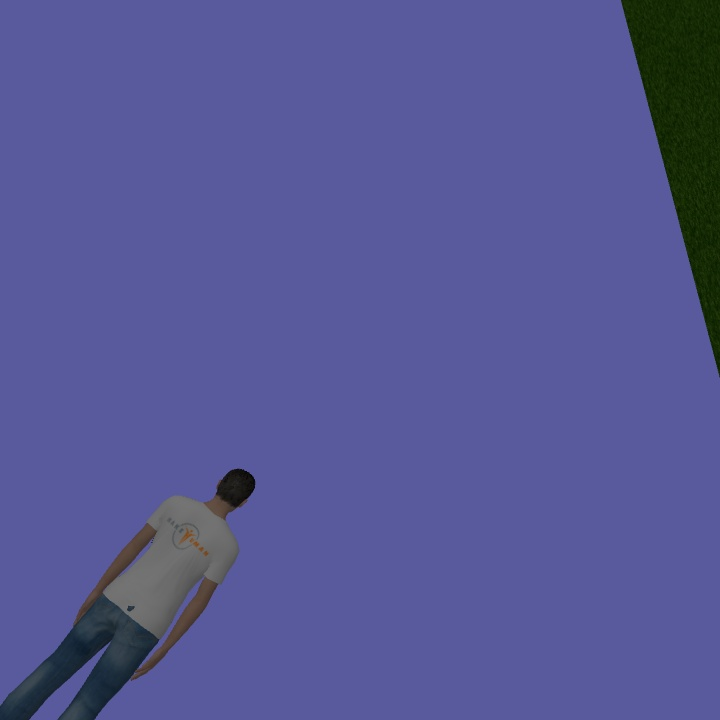victim: (1, 465, 261, 716)
